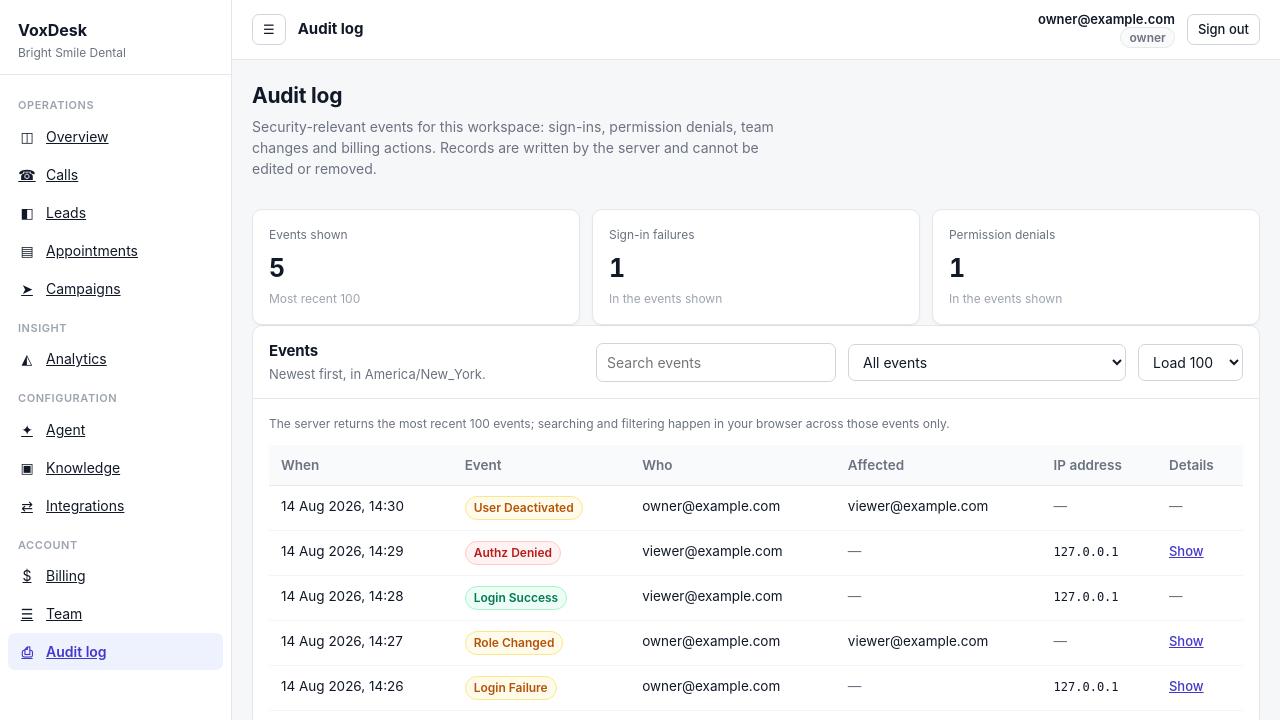
it: details › hides details behind a toggle and expands on request
Expected: the heading "Audit log" is shown, [252,83,342,108]
Expected: the text "Role Changed" is shown, [465,631,564,655]
Click the button "Show" in the row of "14 Aug 2026, 14:27".
click(1186, 642)  # box [1169,632,1204,652]
(page scrolled)
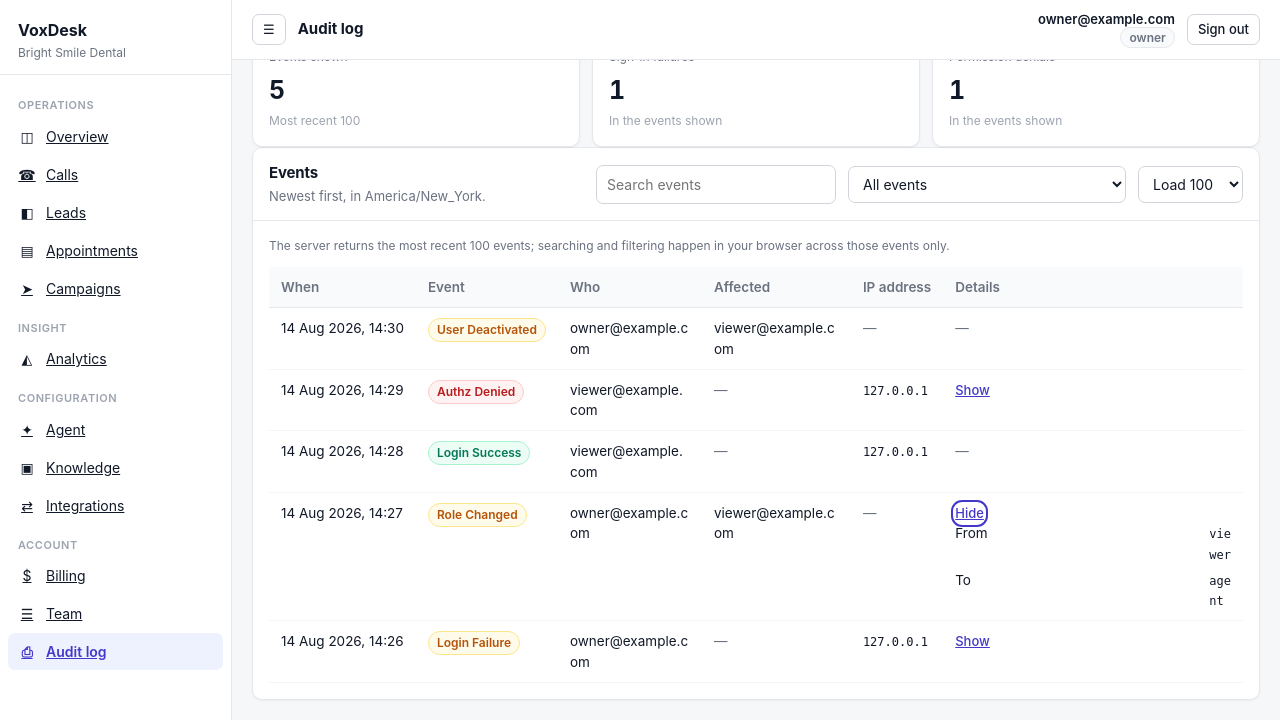
Expected: the button "Hide" is expanded, [955,504,984,523]
Expected: the text "From" is shown, [955,525,988,541]
Expected: the text "agent" is shown, [1209,574,1231,608]
